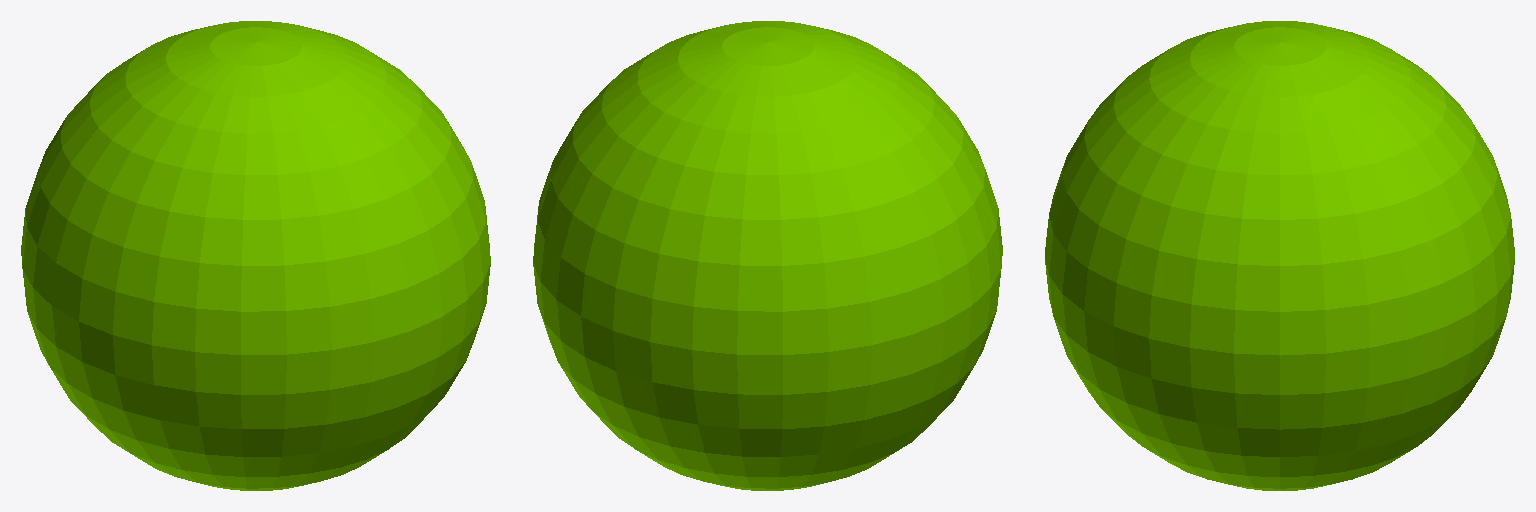
The model's file is yellowIsh_sphere.obj.
The picture shows the model from 3 angles: view 1: azimuth 30°, elevation 25°; view 2: azimuth 150°, elevation 25°; view 3: azimuth 270°, elevation 25°; orthographic projection.
Parts seen in each view (by area): view 1: Sphere; view 2: Sphere; view 3: Sphere.
Boxes of the visible parts, <box> form: Sphere: <box>21,21,490,490</box>; Sphere: <box>533,21,1002,490</box>; Sphere: <box>1045,21,1514,490</box>.
Size of the model in its own units: 0.4 by 0.4 by 0.4.